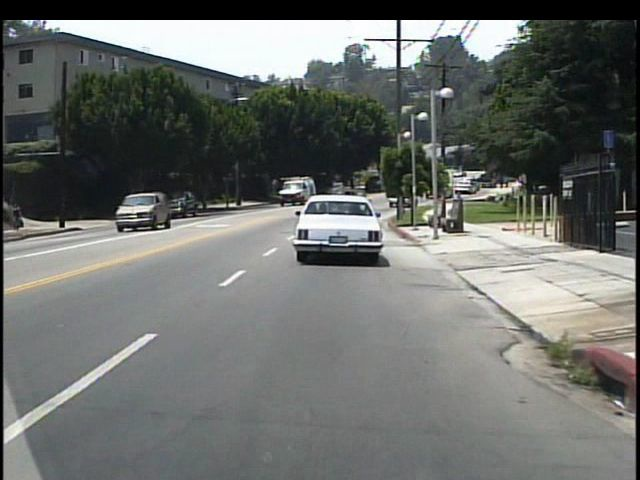person: (12, 201, 26, 233)
